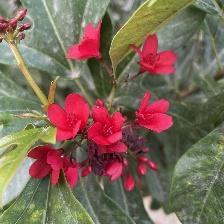jatropha: (132, 32, 182, 77), (137, 91, 178, 136), (90, 102, 128, 150)
